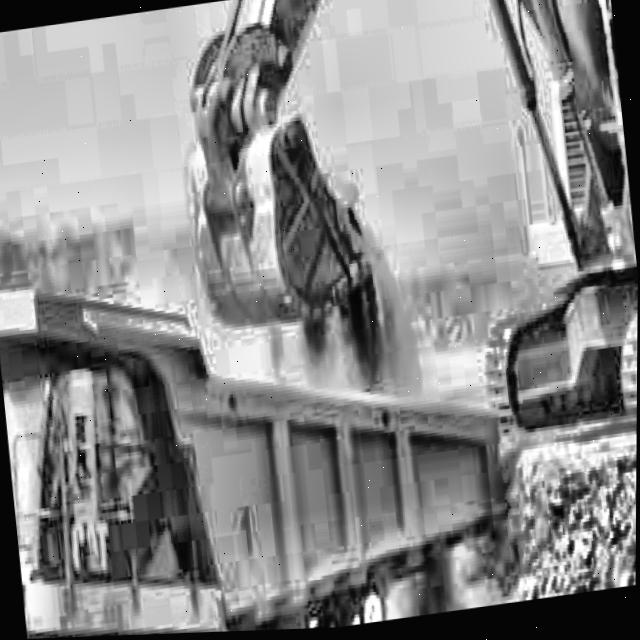dump_truck: (0, 180, 543, 640)
excavator: (165, 0, 640, 489)
